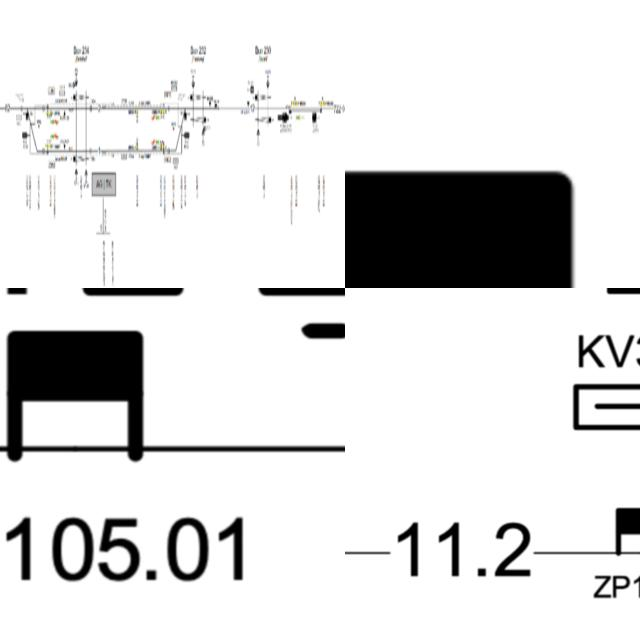mainsignal: (22, 132, 30, 140), (181, 132, 190, 138)
radzaehler: (345, 146, 599, 288), (0, 326, 164, 482), (603, 499, 640, 571), (214, 104, 217, 109), (289, 109, 291, 114)
trackjoint: (167, 105, 170, 113), (42, 105, 44, 113), (20, 106, 22, 112), (42, 148, 44, 154), (90, 105, 92, 111), (90, 148, 92, 154), (168, 148, 170, 154)
tracknumber: (384, 501, 544, 605), (333, 103, 341, 113), (250, 102, 256, 114), (5, 102, 10, 114), (98, 146, 100, 156), (98, 105, 100, 113)
weiche: (184, 108, 187, 120), (26, 107, 28, 121)
